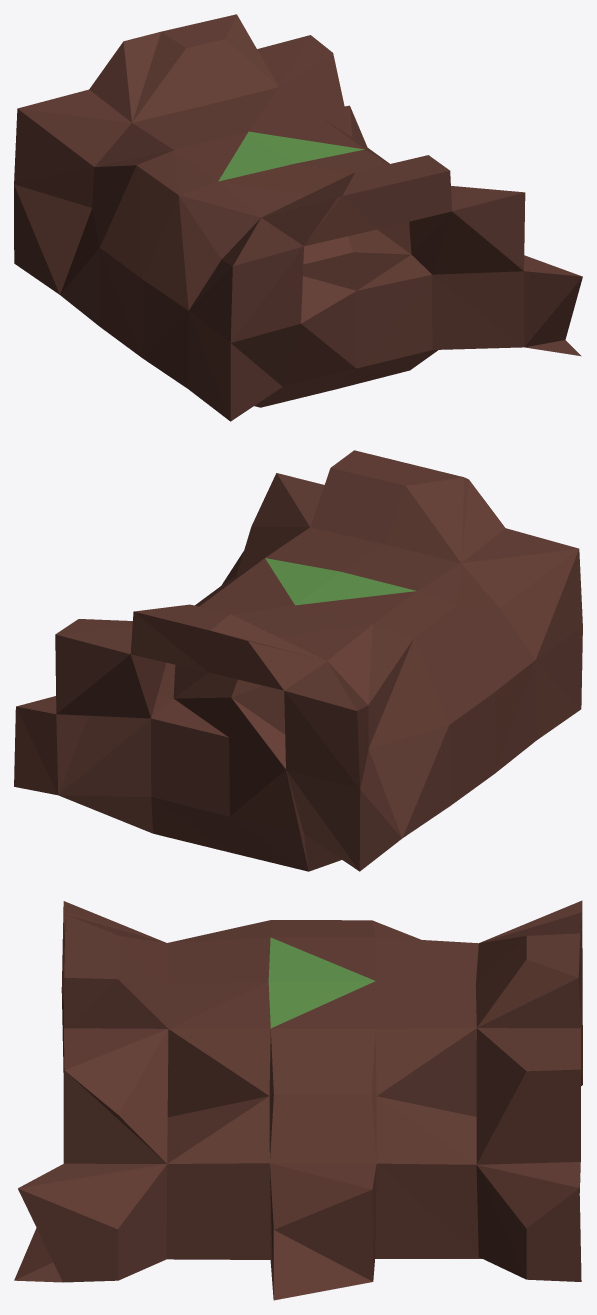
Rendered from root-tangle.glb.
3 views of the same model, one above another, from view 1: azimuth 30°, elevation 25°; view 2: azimuth 150°, elevation 25°; view 3: azimuth 270°, elevation 25° (orthographic). The views are drawn at different scales.
Size of the model in its own units: 0.8282 by 0.4986 by 0.9183.
